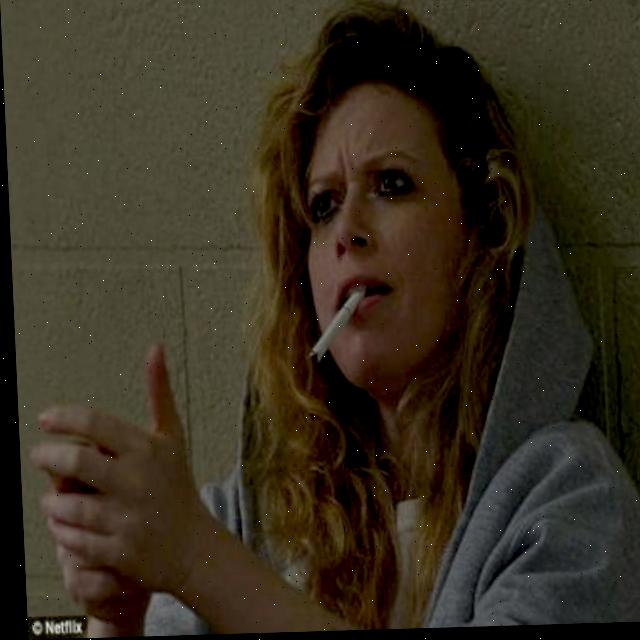cigarette: (299, 292, 366, 369)
